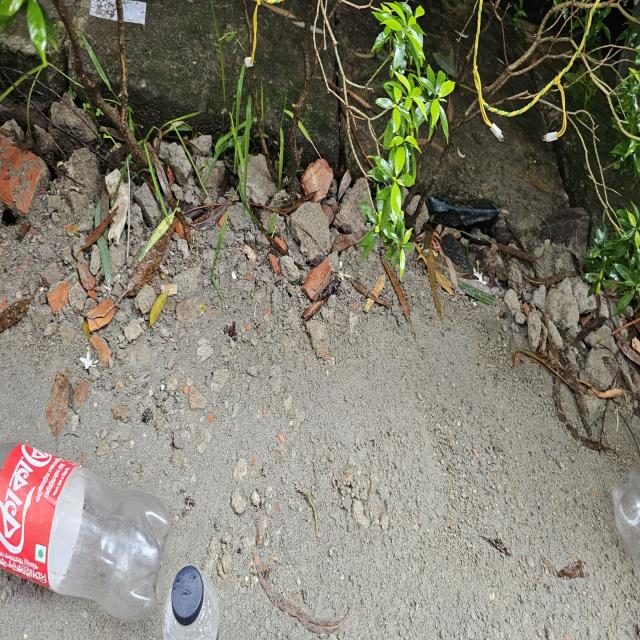artificial_container: (2, 439, 167, 622), (164, 564, 220, 640), (611, 468, 640, 579)
